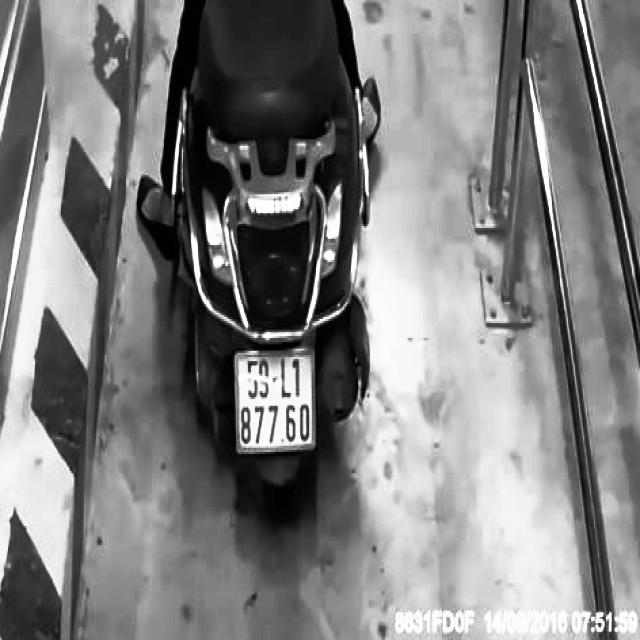license_plate: (230, 352, 324, 471)
